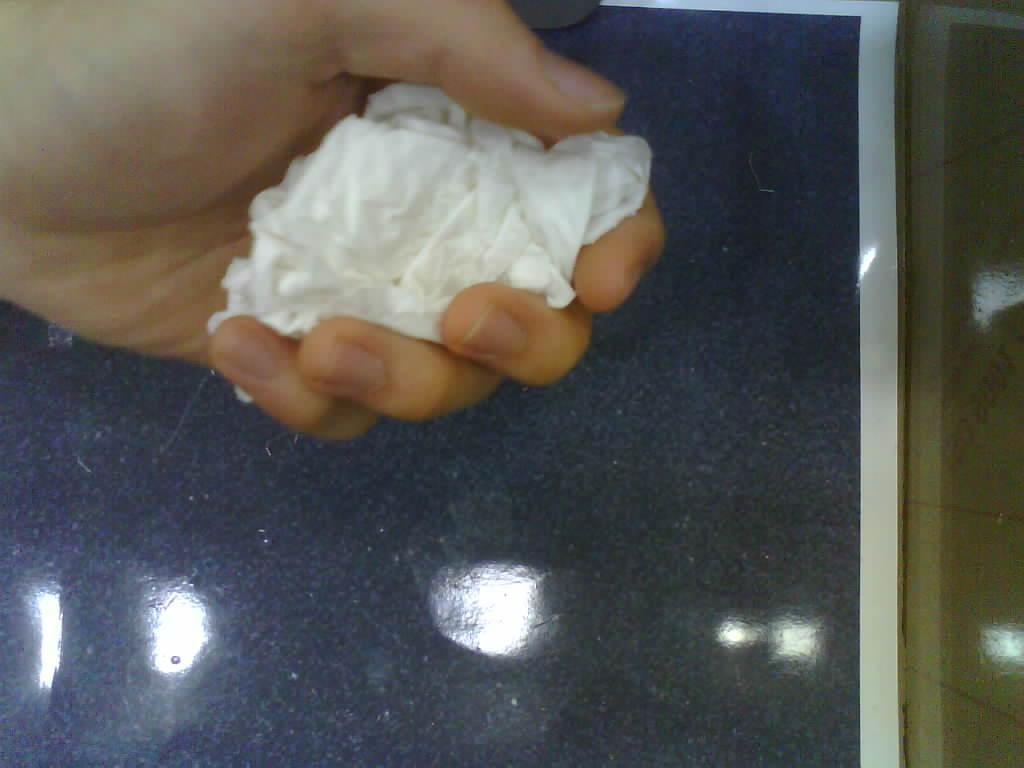paper: (199, 82, 653, 414)
